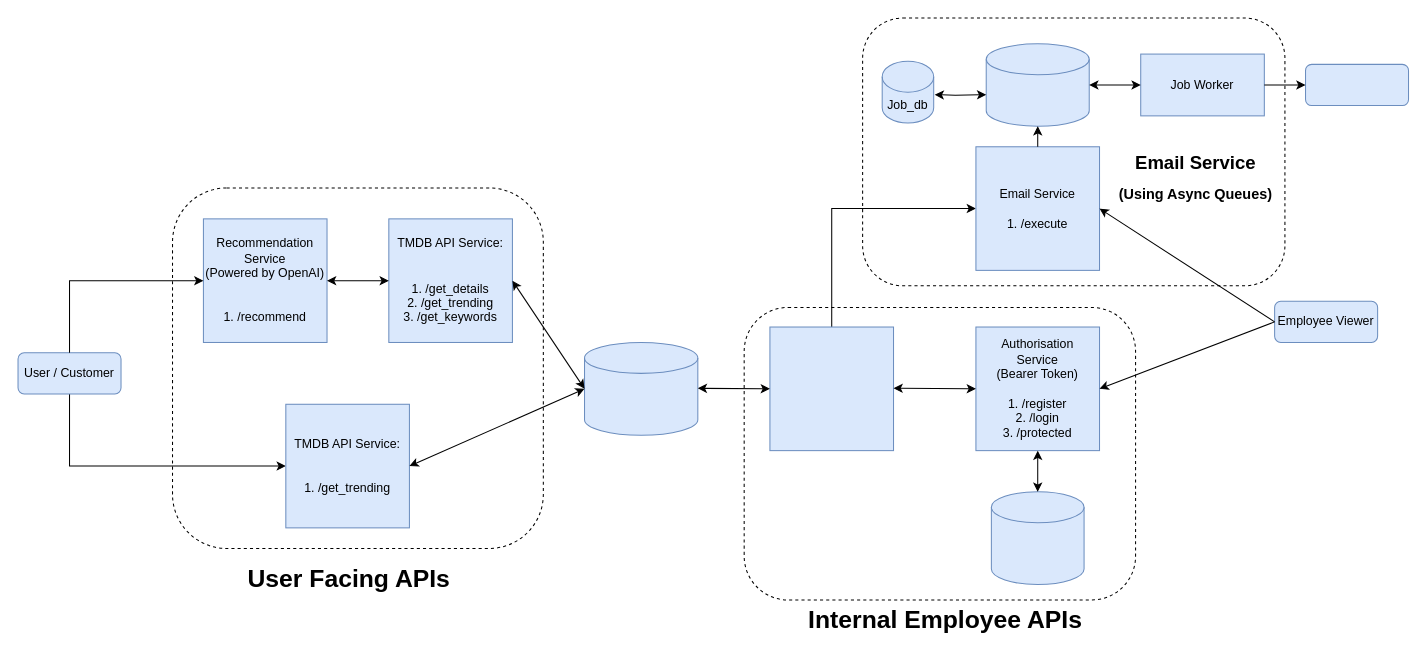
Image size: 1427x659. Some labels were removed from this diagram. Each missing label, with the box of its shape:
Analytics Reporting Service 1. /get_data 2. /filter_data: (769, 326, 894, 451)
Data Warehouse (PostgresDB): (583, 341, 698, 435)
Employee Database (PostgresDB): (990, 491, 1084, 585)
Job Broker (Redis Queue): (985, 43, 1089, 126)
Job Viewer: (1304, 63, 1409, 106)
